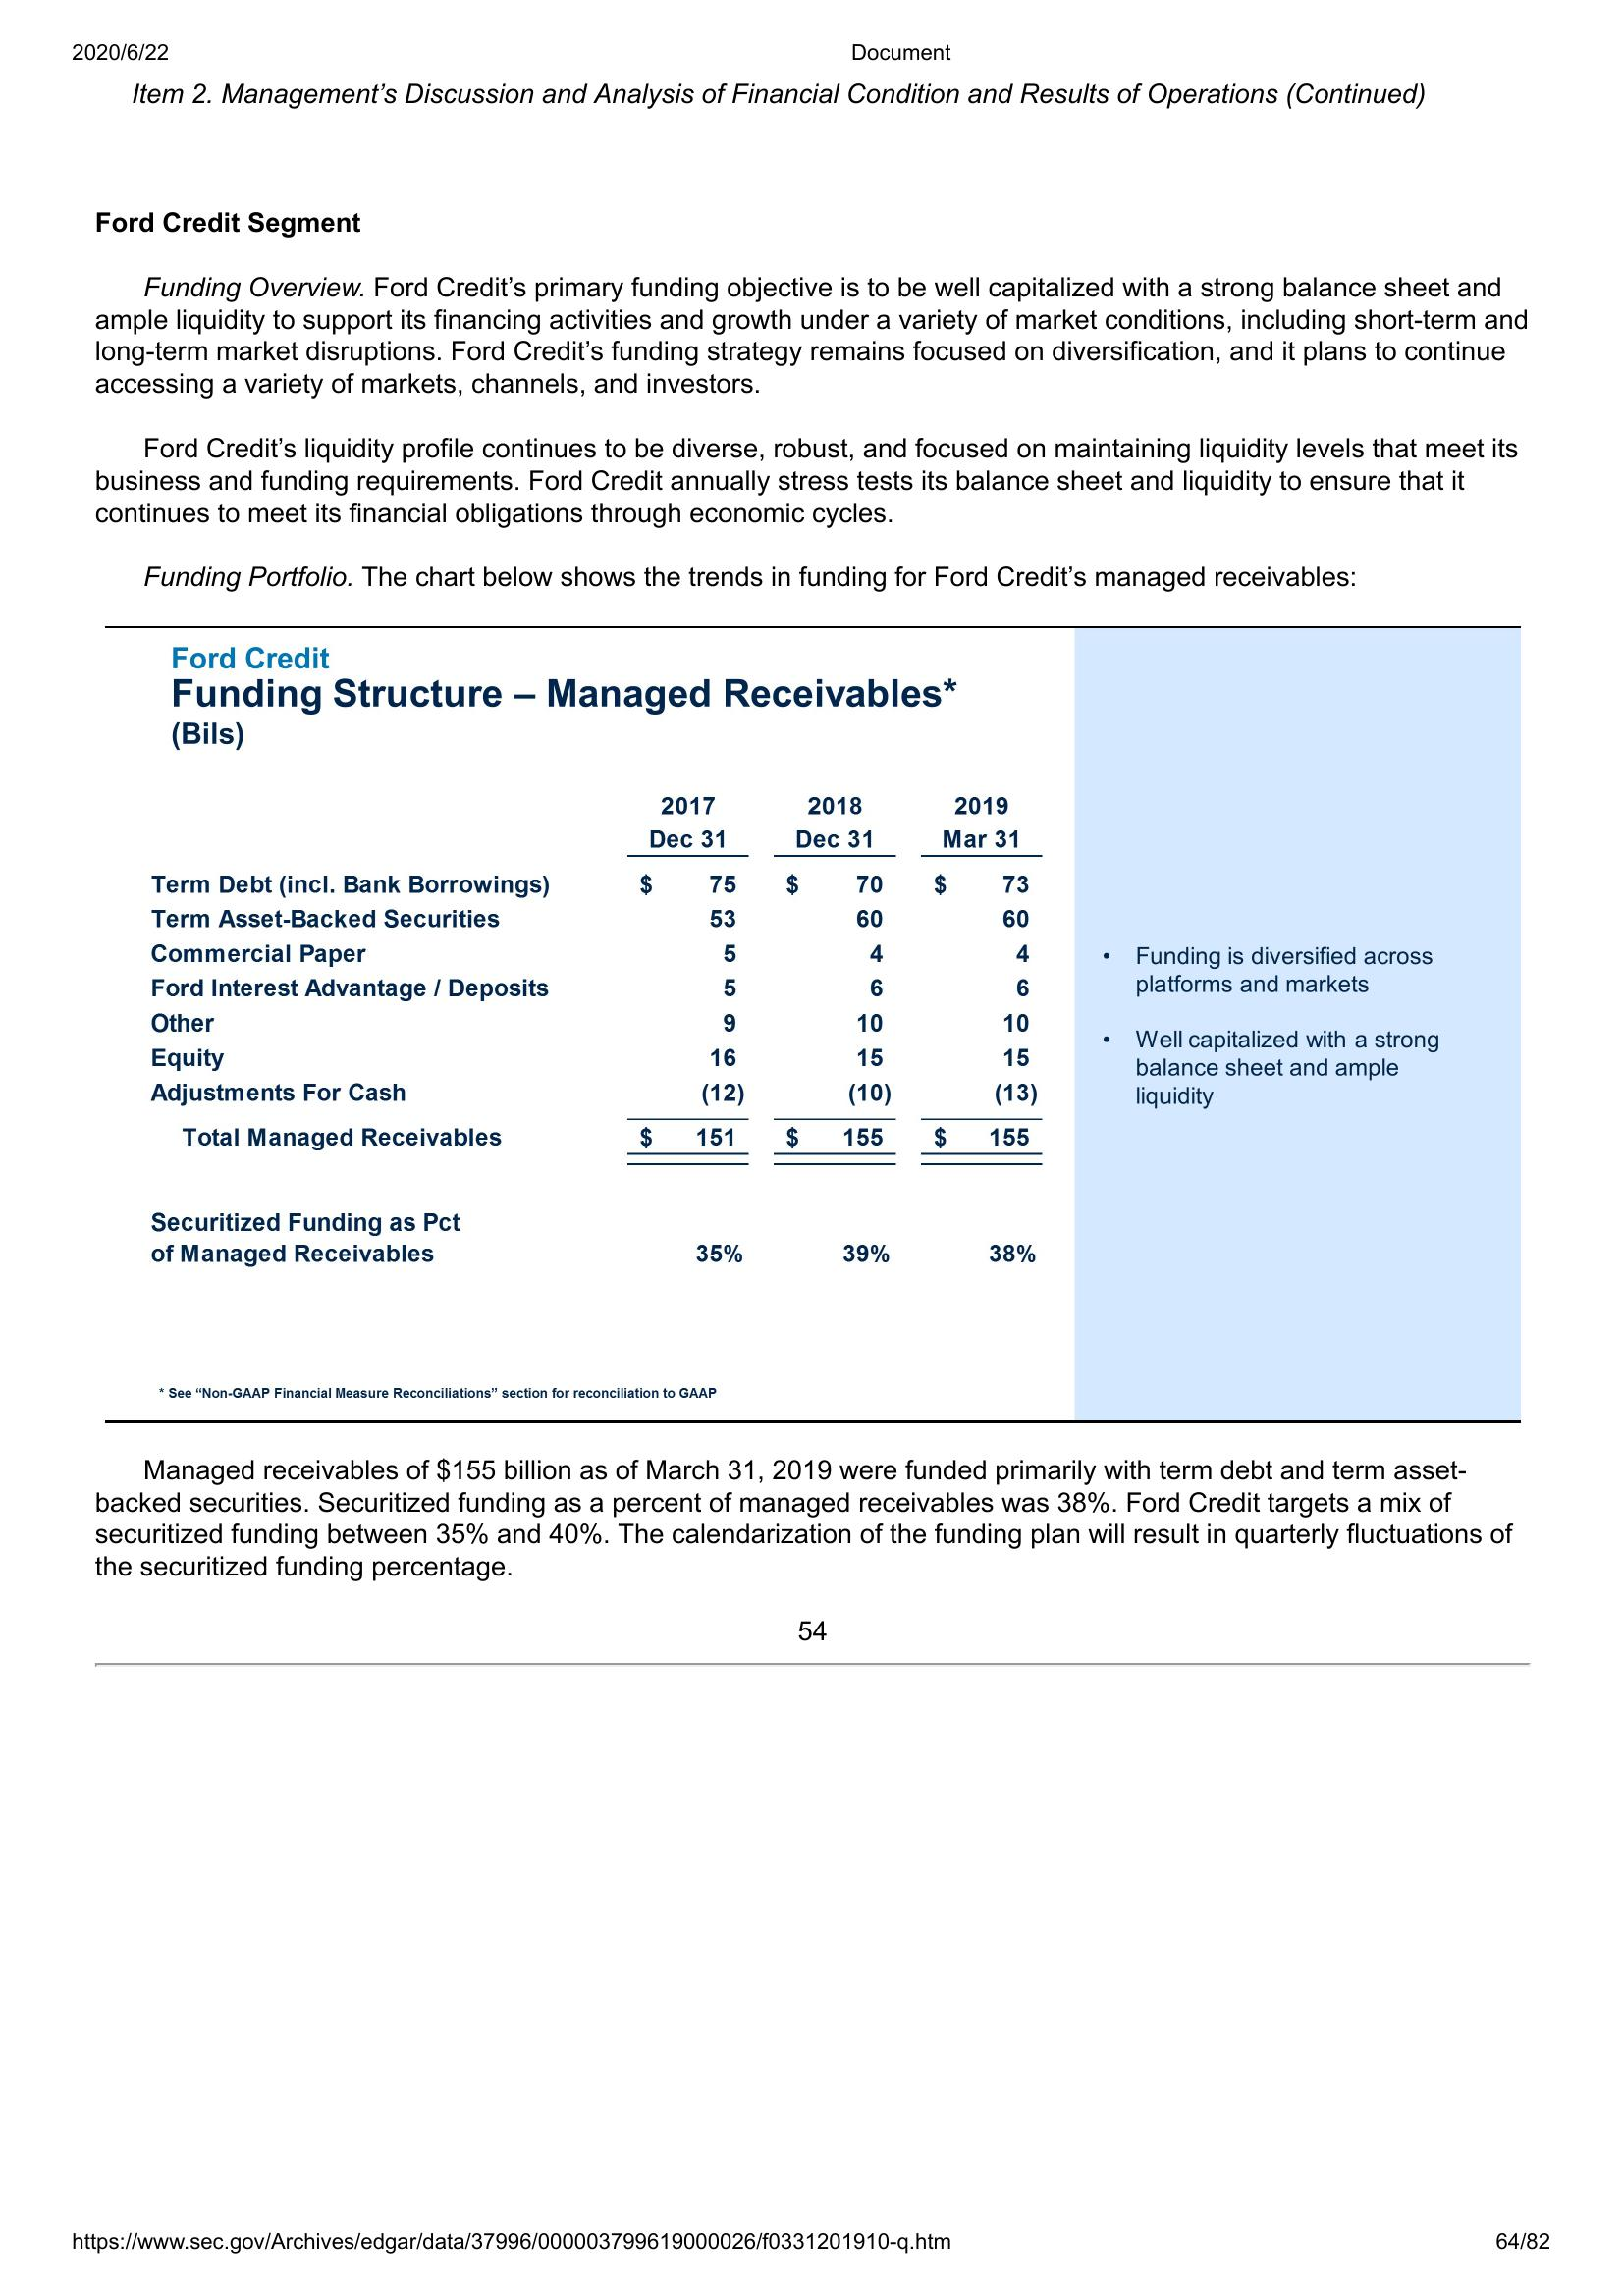table: (126, 793, 1045, 1269)
